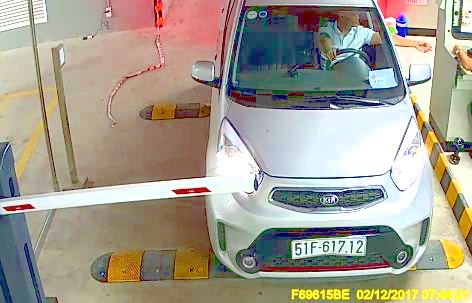plate: (290, 235, 370, 259)
